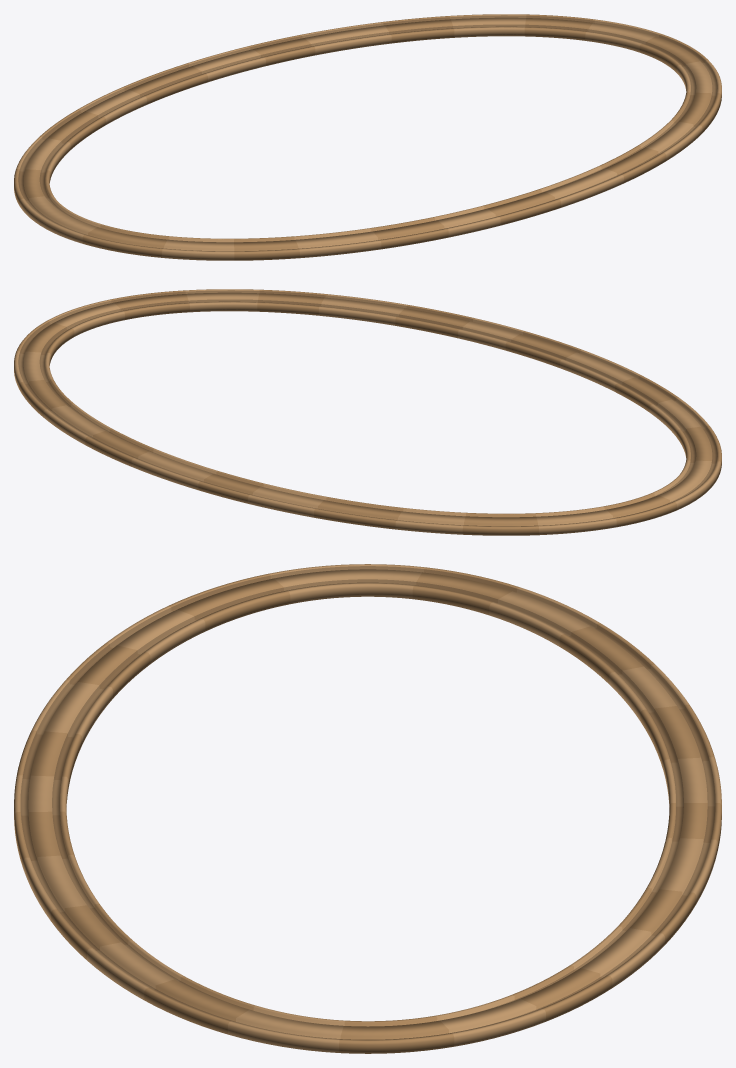
File: W1_Track.fbx
3 renders of one model, top to bottom at view 1: azimuth 30°, elevation 25°; view 2: azimuth 150°, elevation 25°; view 3: azimuth 270°, elevation 25°, orthographic. The views are drawn at different scales.
Visible parts, largest first — view 1: W1_Track; view 2: W1_Track; view 3: W1_Track.
Boxes of the visible parts, left/top/right/bottom form: W1_Track: left=14, top=14, right=721, bottom=260; W1_Track: left=14, top=289, right=721, bottom=535; W1_Track: left=14, top=564, right=721, bottom=1053.
Size of the model in its own units: 3.46 by 0.038 by 2.16.
